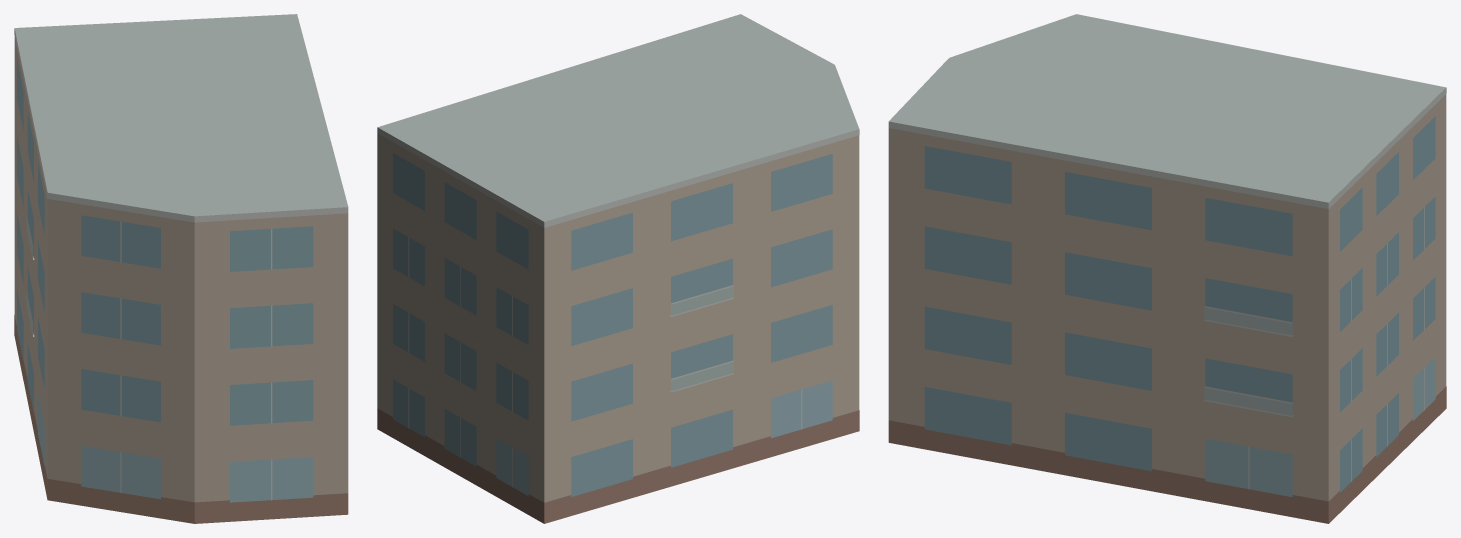
Rendered from survey-upis-32919126.glb.
The picture shows the model from 3 angles, left to right: view 1: azimuth 30°, elevation 25°; view 2: azimuth 150°, elevation 25°; view 3: azimuth 270°, elevation 25°; orthographic projection. The views are drawn at different scales.
Parts seen in each view (by area): view 1: survey-upis-32919126.tmp; view 2: survey-upis-32919126.tmp; view 3: survey-upis-32919126.tmp.
Boxes of the visible parts, <box> form: survey-upis-32919126.tmp: <box>14,14,348,523</box>; survey-upis-32919126.tmp: <box>377,14,859,523</box>; survey-upis-32919126.tmp: <box>888,14,1446,523</box>.
Size of the model in its own units: 15.38 by 12.2 by 19.21.
